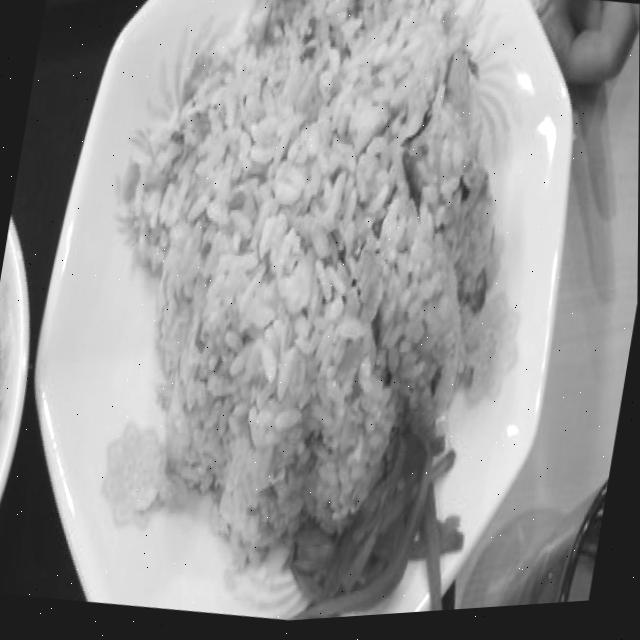米饭主食: (0, 25, 388, 640)
